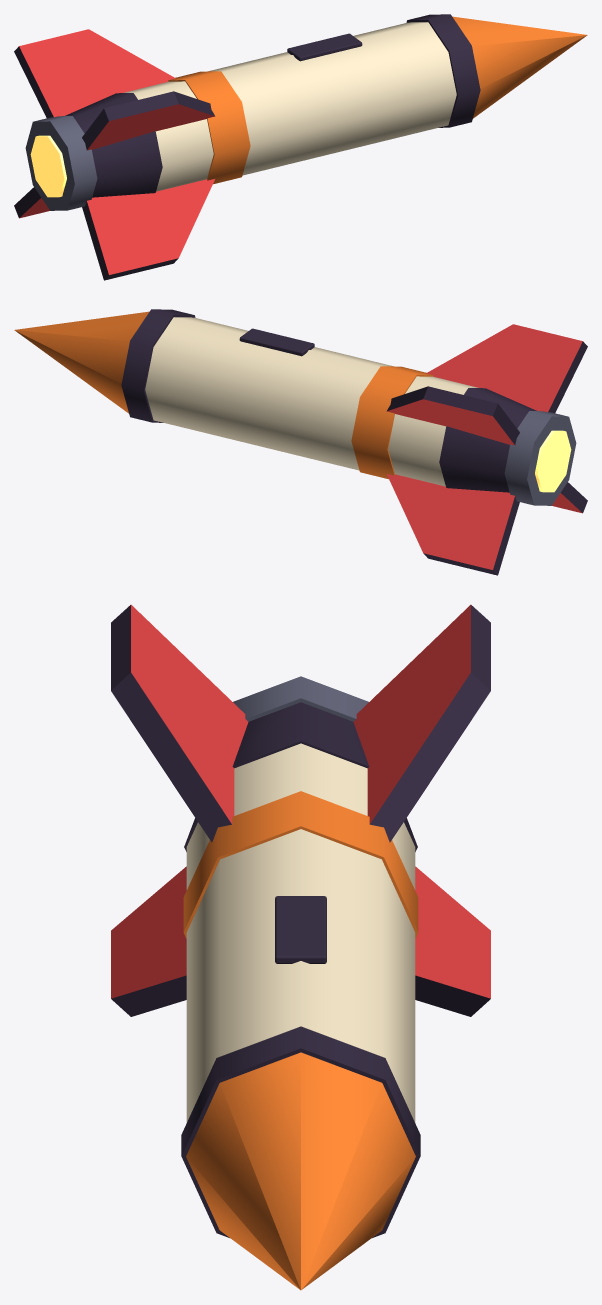
The model's file is missile.glb.
3 views of the same model, one above another, from view 1: azimuth 30°, elevation 25°; view 2: azimuth 150°, elevation 25°; view 3: azimuth 270°, elevation 25° (orthographic). The views are drawn at different scales.
Visible parts, largest first — view 1: missile-body, stabilizer-1, stabilizer-3, faceted-warhead, tail-housing, safety-stripe, stabilizer-0, exhaust-rim, nose-collar, exhaust-core, top-identification, stabilizer-2; view 2: missile-body, stabilizer-2, stabilizer-0, faceted-warhead, tail-housing, safety-stripe, stabilizer-3, exhaust-rim, nose-collar, exhaust-core, top-identification, stabilizer-1; view 3: missile-body, faceted-warhead, stabilizer-0, stabilizer-3, safety-stripe, stabilizer-1, stabilizer-2, nose-collar, tail-housing, top-identification, exhaust-rim.
Boxes of the visible parts, left/top/right/bottom form: missile-body: left=123, top=22, right=456, bottom=191; stabilizer-1: left=82, top=179, right=214, bottom=280; stabilizer-3: left=14, top=29, right=175, bottom=118; faceted-warhead: left=452, top=16, right=587, bottom=118; tail-housing: left=65, top=93, right=162, bottom=197; safety-stripe: left=168, top=71, right=250, bottom=184; stabilizer-0: left=82, top=91, right=215, bottom=150; exhaust-rim: left=25, top=116, right=97, bottom=210; nose-collar: left=406, top=14, right=480, bottom=127; exhaust-core: left=30, top=135, right=66, bottom=197; top-identification: left=287, top=33, right=362, bottom=61; stabilizer-2: left=14, top=187, right=49, bottom=218; missile-body: left=145, top=317, right=478, bottom=486; stabilizer-2: left=387, top=474, right=519, bottom=575; stabilizer-0: left=426, top=324, right=587, bottom=413; faceted-warhead: left=14, top=311, right=149, bottom=413; tail-housing: left=439, top=388, right=536, bottom=492; safety-stripe: left=351, top=366, right=433, bottom=479; stabilizer-3: left=386, top=386, right=519, bottom=445; exhaust-rim: left=504, top=411, right=576, bottom=505; nose-collar: left=121, top=309, right=195, bottom=422; exhaust-core: left=535, top=430, right=571, bottom=492; top-identification: left=239, top=328, right=314, bottom=356; stabilizer-1: left=552, top=482, right=587, bottom=513; missile-body: left=186, top=743, right=415, bottom=1122; faceted-warhead: left=186, top=1052, right=415, bottom=1290; stabilizer-0: left=111, top=604, right=248, bottom=842; stabilizer-3: left=353, top=604, right=490, bottom=842; safety-stripe: left=183, top=791, right=418, bottom=938; stabilizer-1: left=111, top=866, right=186, bottom=1016; stabilizer-2: left=415, top=866, right=490, bottom=1016; nose-collar: left=181, top=1026, right=420, bottom=1237; tail-housing: left=184, top=702, right=417, bottom=851; top-identification: left=275, top=896, right=326, bottom=963; exhaust-rim: left=233, top=676, right=368, bottom=721.
Bounding box in the file's own units: 2.4 × 0.7319 × 0.7319.
